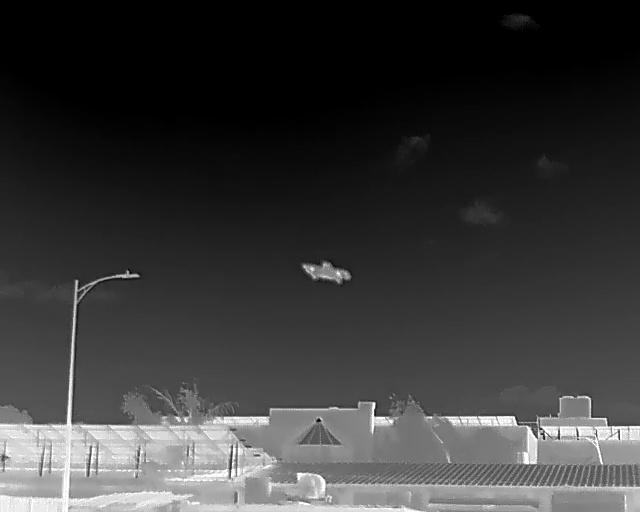fpv-drone: (301, 261, 350, 284)
